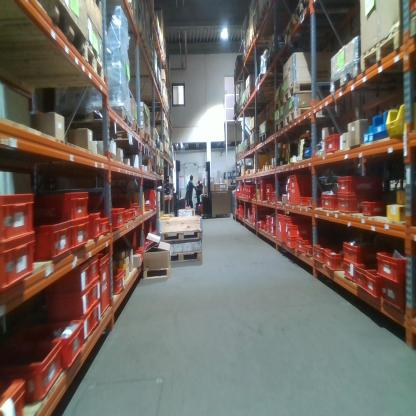pallet: (0, 44, 105, 84), (28, 2, 80, 53), (361, 28, 406, 74), (59, 109, 133, 129), (279, 1, 311, 42), (284, 79, 331, 106), (330, 63, 360, 96), (168, 250, 203, 265), (161, 230, 203, 241), (284, 108, 311, 124), (254, 71, 274, 90), (127, 114, 141, 138), (135, 129, 152, 148), (267, 48, 280, 71), (274, 98, 284, 112), (148, 140, 157, 154), (274, 120, 283, 131), (258, 131, 267, 141), (245, 93, 251, 103), (251, 127, 258, 135), (250, 140, 255, 149), (156, 148, 160, 159), (154, 168, 161, 174), (243, 147, 249, 153), (161, 152, 165, 161), (161, 169, 165, 177), (240, 151, 244, 157)
pallet_truck: (197, 159, 213, 221), (173, 158, 190, 210)
small_load_carrier: (3, 336, 64, 400), (21, 320, 84, 367), (35, 215, 74, 268), (36, 188, 89, 223), (1, 237, 35, 291), (0, 195, 34, 245), (50, 285, 92, 325), (56, 259, 95, 297), (375, 250, 410, 283), (97, 253, 113, 316), (73, 304, 95, 345), (1, 379, 25, 416), (379, 283, 408, 313), (334, 175, 377, 195), (284, 211, 306, 250), (287, 169, 311, 203), (341, 239, 367, 266), (94, 207, 125, 228), (71, 217, 89, 252), (355, 261, 374, 293), (368, 269, 386, 300), (338, 196, 367, 215), (86, 211, 101, 246), (323, 249, 343, 273), (89, 278, 101, 312), (109, 267, 124, 294), (325, 131, 340, 157), (320, 194, 338, 215), (342, 256, 356, 283), (362, 199, 384, 216), (286, 223, 306, 239), (90, 256, 101, 282), (91, 300, 102, 326), (313, 244, 326, 265), (130, 245, 143, 265), (278, 213, 286, 245), (297, 236, 308, 256), (306, 199, 322, 212), (145, 217, 153, 243), (286, 236, 298, 251), (304, 244, 315, 259), (101, 217, 109, 236), (145, 189, 155, 201), (298, 196, 307, 209), (261, 179, 266, 201), (124, 209, 131, 224), (271, 215, 279, 227), (144, 199, 150, 214), (133, 200, 138, 218), (263, 190, 271, 201), (271, 194, 282, 202), (150, 200, 158, 210), (285, 193, 292, 204), (266, 182, 273, 193), (285, 183, 292, 193), (129, 208, 134, 222), (270, 228, 276, 238), (286, 175, 292, 183), (266, 214, 270, 226), (137, 205, 141, 215), (266, 226, 270, 235), (252, 217, 256, 226), (154, 229, 157, 240), (248, 185, 252, 193)
